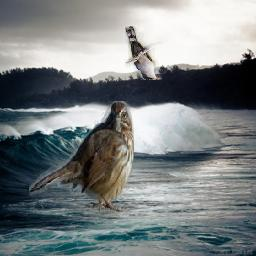Cuckoo: (126, 26, 163, 80)
Sparrow: (30, 102, 135, 213)
